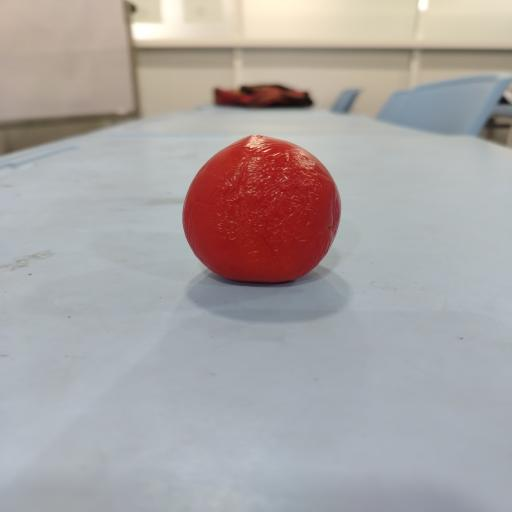spoiled: (183, 135, 340, 282)
